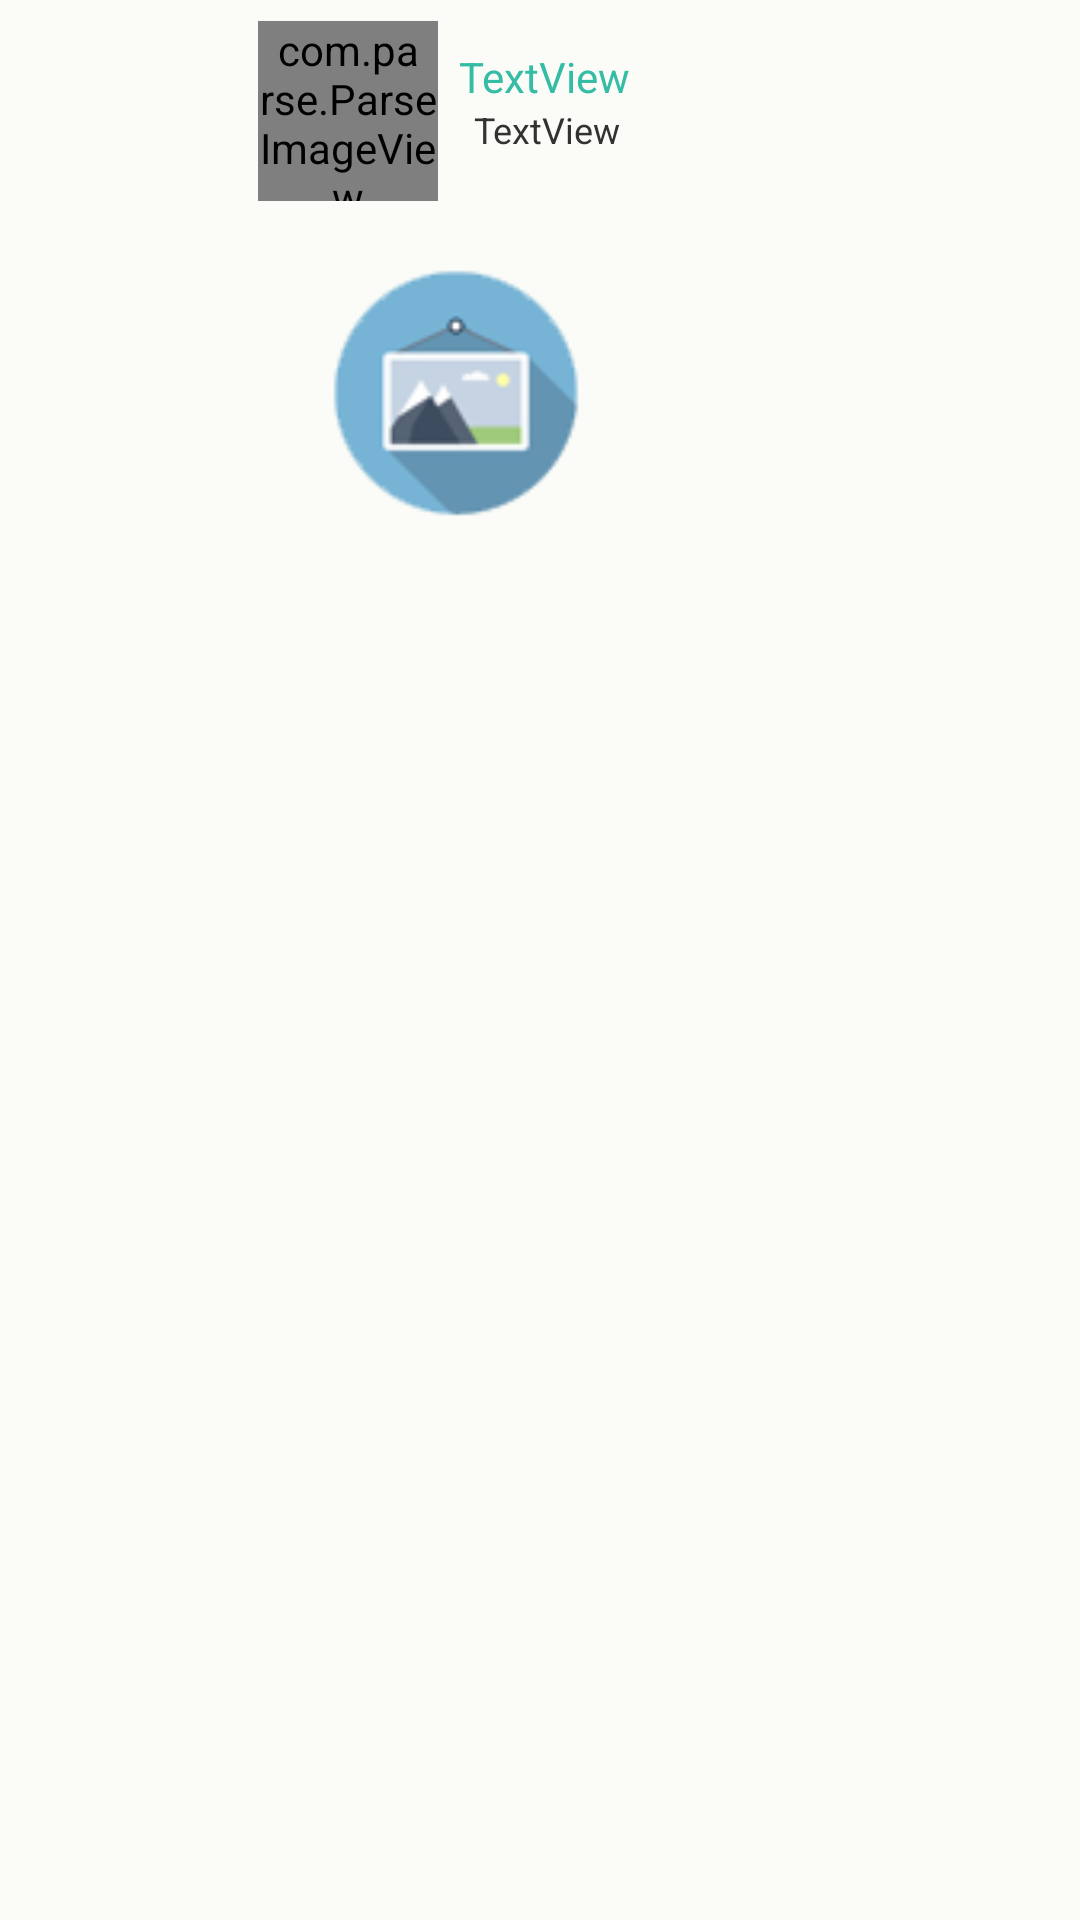

Icons on this 1080×1920 Android screen, each with the point to tap as (x=x, y=y):
photopost upload: (x=456, y=393)
